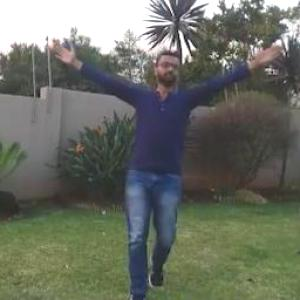takeoff: (33, 16, 299, 286)
